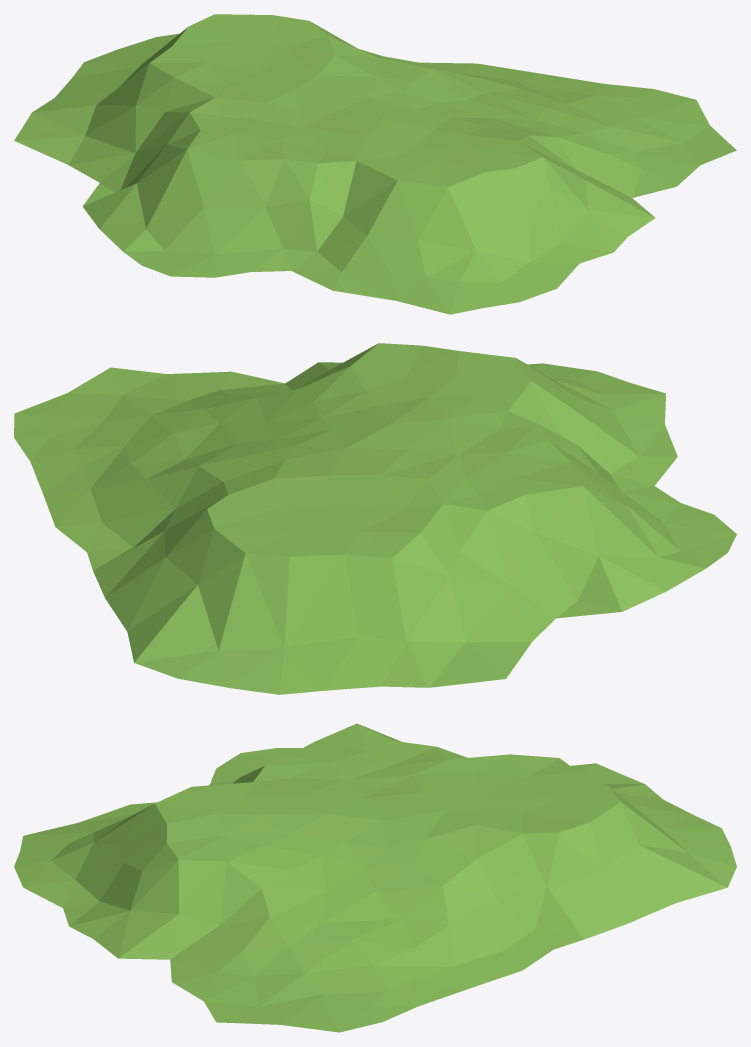
Rendered from MT_Mountain_M_c_16.fbx.
3 renders of one model, top to bottom at view 1: azimuth 30°, elevation 25°; view 2: azimuth 150°, elevation 25°; view 3: azimuth 270°, elevation 25°, orthographic. The views are drawn at different scales.
Visible parts, largest first — view 1: MT_Mountain_M_c_16; view 2: MT_Mountain_M_c_16; view 3: MT_Mountain_M_c_16.
Part boxes in pixels (x1,y1,x2,y2): MT_Mountain_M_c_16: (14, 14, 736, 314); MT_Mountain_M_c_16: (14, 343, 736, 694); MT_Mountain_M_c_16: (14, 723, 736, 1032).
Size of the model in its own units: 4297 by 465 by 4609.
